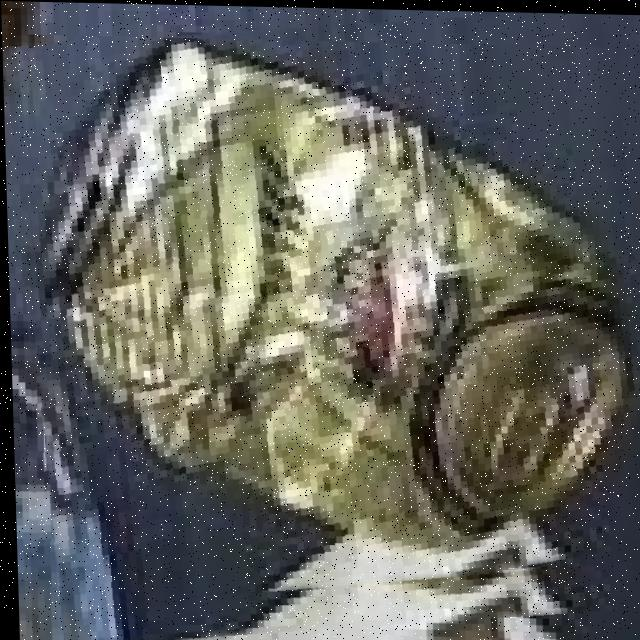litter: (26, 36, 640, 581)
